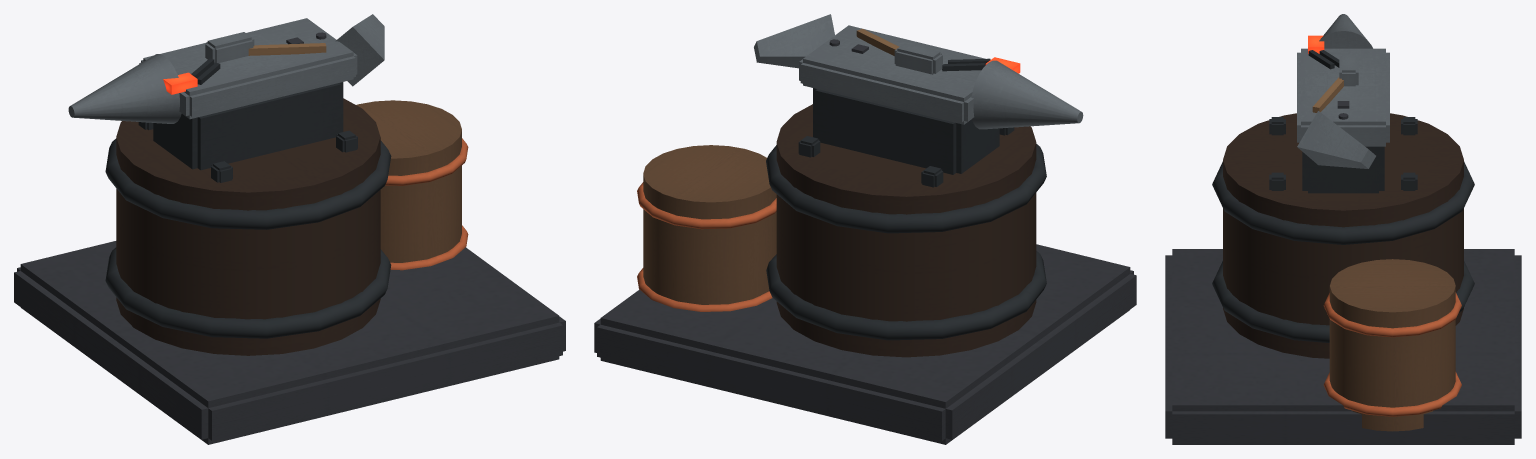
Rendered from anvil_master_forge.glb.
3 views of the same model, side by side, from view 1: azimuth 30°, elevation 25°; view 2: azimuth 150°, elevation 25°; view 3: azimuth 270°, elevation 25° (orthographic). The views are drawn at different scales.
Visible parts, largest first — view 1: anvil_master_forge; view 2: anvil_master_forge; view 3: anvil_master_forge.
Boxes of the visible parts, bbox=[...] form: anvil_master_forge: bbox=[14, 14, 565, 444]; anvil_master_forge: bbox=[594, 14, 1136, 444]; anvil_master_forge: bbox=[1165, 14, 1521, 444].
Size of the model in its own units: 1.59 by 1.13 by 1.3.
Materials: 1 (1 with a texture image).
